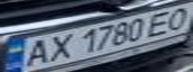0: (124, 16, 151, 43)
1: (75, 26, 100, 54)
7: (93, 22, 118, 51)
8: (112, 19, 136, 47)
A: (15, 37, 54, 70)
E: (142, 9, 181, 36)
O: (160, 4, 193, 32)
X: (39, 32, 78, 63)
